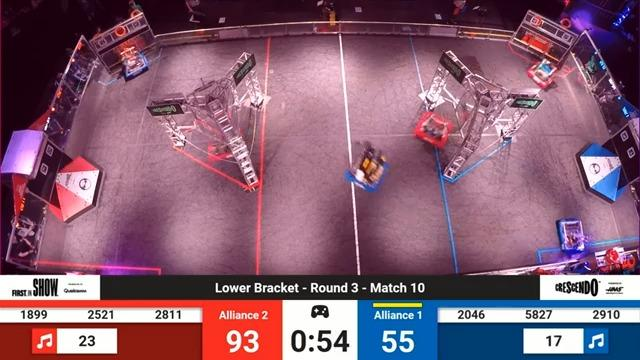robot: (338, 141, 397, 196), (550, 212, 595, 257), (206, 132, 253, 169), (411, 112, 458, 148), (117, 46, 153, 82), (531, 56, 559, 89)
